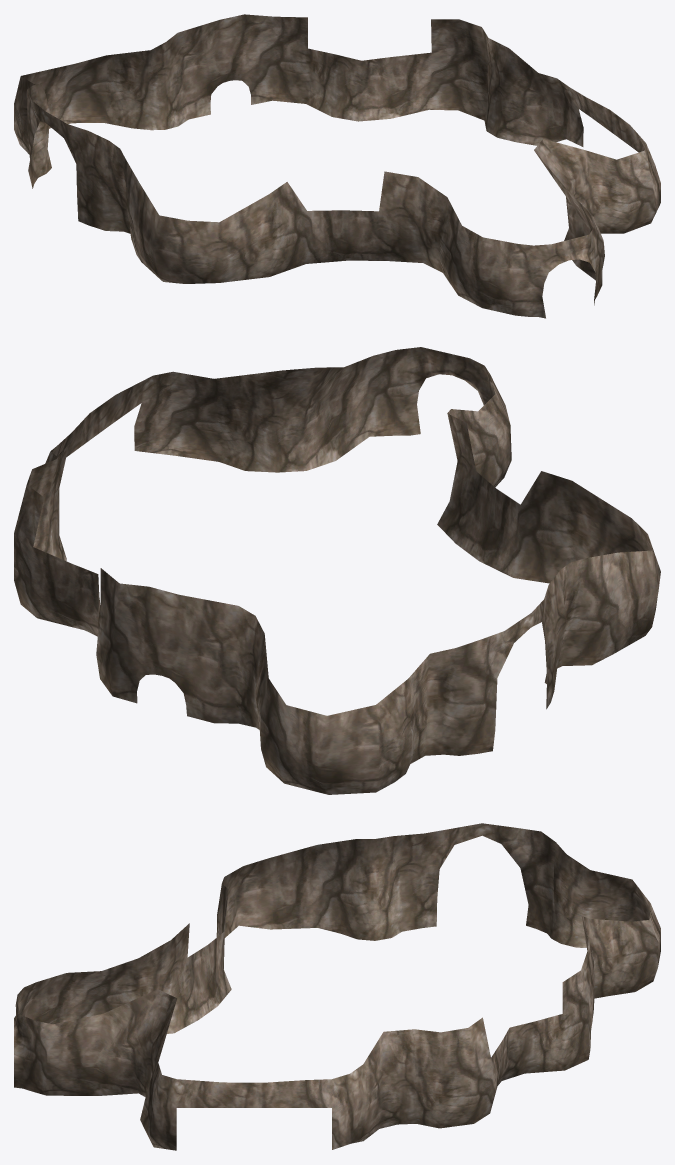
Rendered from EKH_JAIL_PS_JA_OBJECT07.fbx.
3 views of the same model, one above another, from view 1: azimuth 30°, elevation 25°; view 2: azimuth 150°, elevation 25°; view 3: azimuth 270°, elevation 25° (orthographic). The views are drawn at different scales.
Parts seen in each view (by area): view 1: EKH_JAIL_PS_JA_OBJECT07; view 2: EKH_JAIL_PS_JA_OBJECT07; view 3: EKH_JAIL_PS_JA_OBJECT07.
Boxes of the visible parts, x1,y1,x2,y2 form: EKH_JAIL_PS_JA_OBJECT07: (14,14,660,318); EKH_JAIL_PS_JA_OBJECT07: (14,347,660,794); EKH_JAIL_PS_JA_OBJECT07: (14,823,660,1150).
Bounding box in the file's own units: 181583 × 39056 × 215227.
Materials: 1 (1 with a texture image).
